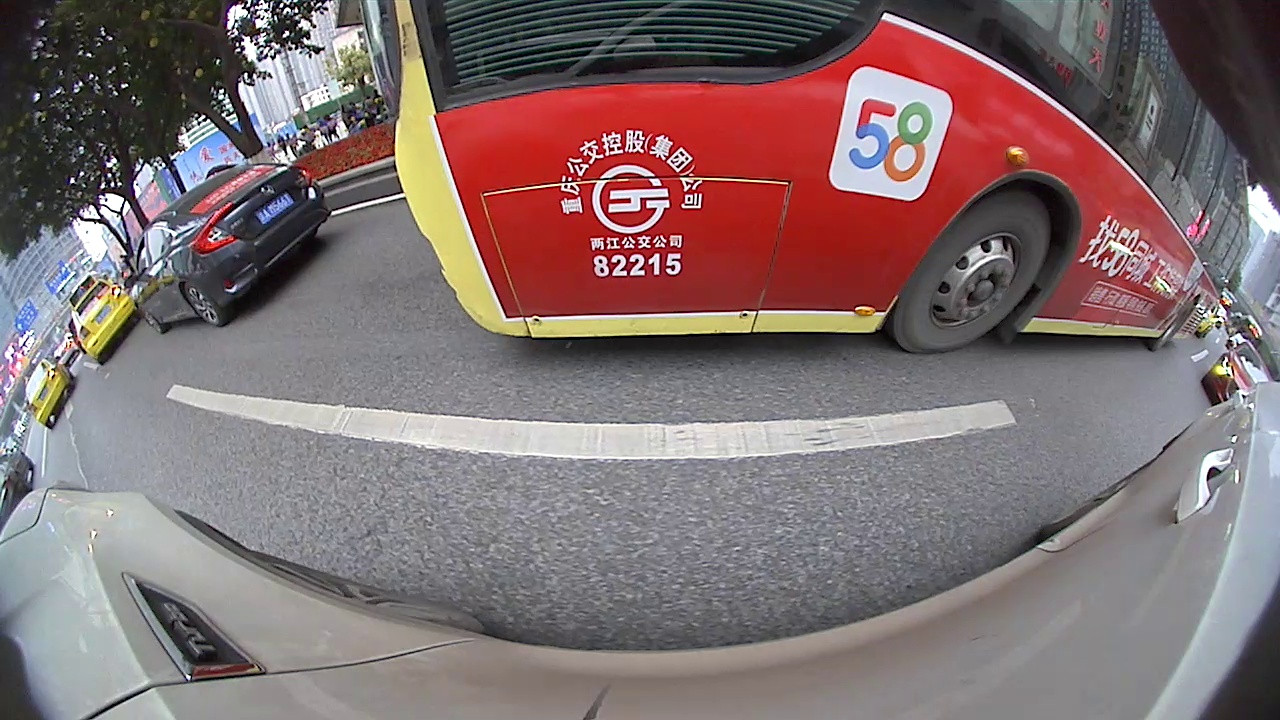bus: (346, 4, 1257, 353)
car: (125, 158, 333, 335), (68, 274, 140, 367), (20, 360, 77, 427)
front: (887, 188, 1055, 357), (137, 312, 168, 335)
rear: (1150, 296, 1200, 353), (180, 280, 227, 326)
